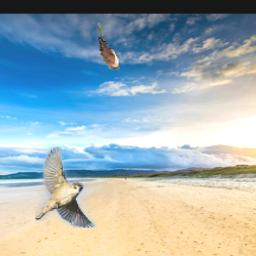Cuckoo: (97, 22, 120, 70)
Sparrow: (36, 148, 97, 229)
